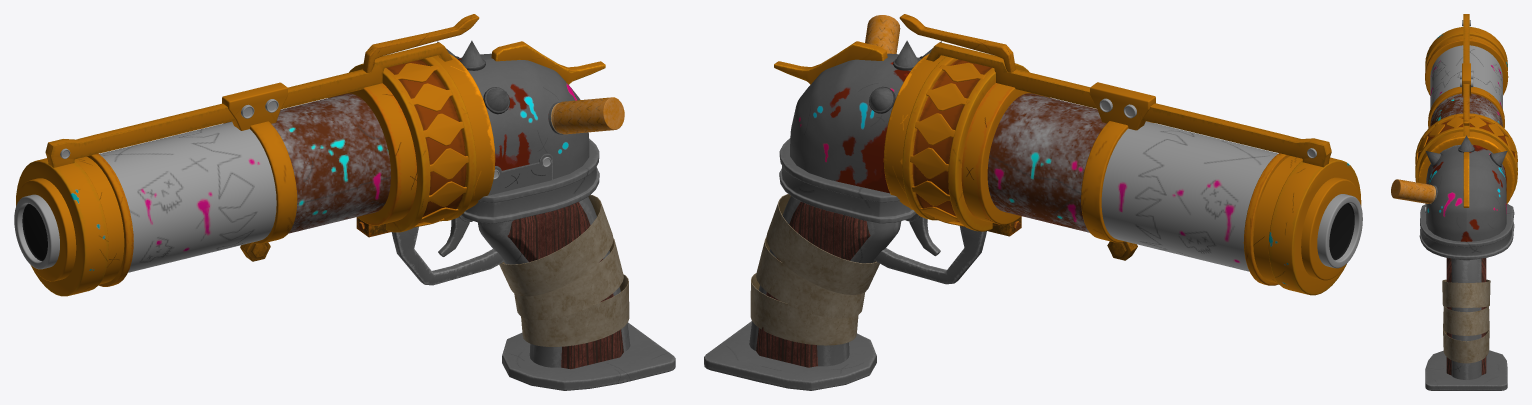
Rendered from jinxpistol.fbx.
3 renders of one model, left to right at view 1: azimuth 30°, elevation 25°; view 2: azimuth 150°, elevation 25°; view 3: azimuth 270°, elevation 25°, orthographic. The views are drawn at different scales.
Visible parts, largest first — view 1: Cylinder.026, Cylinder.027, Cube, Cylinder.007, Cube.007, Cylinder.003, Cube.004, Cube.011, Cylinder.022, Cylinder.012, Cylinder.006, Cube.012 (+16 smaller); view 2: Cylinder.026, Cylinder.027, Cube, Cylinder.007, Cube.007, Cylinder.003, Cube.004, Cube.013, Cylinder.012, Cylinder.022, Cylinder.006, Cube.012 (+15 smaller); view 3: Cube, Cylinder.026, Cylinder.012, Cube.004, Cylinder.008, Cube.003, Cylinder.007, Cylinder.022, Cylinder.027, Cylinder.021, Cylinder.023, Cylinder.025 (+13 smaller).
Boxes of the visible parts, box(x1,y1,x2,y2) form: Cylinder.026: box(99, 121, 276, 272); Cylinder.027: box(271, 93, 390, 233); Cube: box(457, 53, 589, 179); Cylinder.007: box(349, 57, 476, 232); Cube.007: box(45, 42, 452, 167); Cylinder.003: box(16, 158, 108, 296); Cube.004: box(502, 322, 675, 390); Cube.011: box(507, 202, 623, 369); Cylinder.022: box(499, 194, 613, 296); Cylinder.012: box(461, 138, 599, 223); Cylinder.006: box(328, 83, 417, 225); Cube.012: box(393, 62, 468, 227); Cylinder.026: box(1101, 121, 1278, 271); Cylinder.027: box(987, 93, 1106, 232); Cube: box(790, 53, 921, 193); Cylinder.007: box(902, 56, 1029, 231); Cube.007: box(926, 42, 1331, 167); Cylinder.003: box(1268, 157, 1361, 295); Cube.004: box(704, 321, 876, 390); Cube.013: box(756, 201, 870, 367); Cylinder.012: box(779, 138, 916, 223); Cylinder.022: box(766, 194, 879, 294); Cylinder.006: box(961, 83, 1049, 224); Cube.012: box(910, 62, 985, 226); Cube: box(1426, 144, 1506, 241); Cylinder.026: box(1430, 45, 1502, 109); Cylinder.012: box(1419, 204, 1514, 259); Cube.004: box(1425, 350, 1507, 390); Cylinder.008: box(1418, 131, 1514, 204); Cube.003: box(1451, 258, 1481, 379); Cylinder.007: box(1415, 113, 1517, 196); Cylinder.022: box(1442, 279, 1490, 307); Cylinder.027: box(1430, 93, 1502, 126); Cylinder.021: box(1443, 306, 1489, 335); Cylinder.023: box(1443, 328, 1489, 363); Cylinder.025: box(1425, 38, 1508, 95).
Size of the model in its own units: 1045 by 603 by 316.
